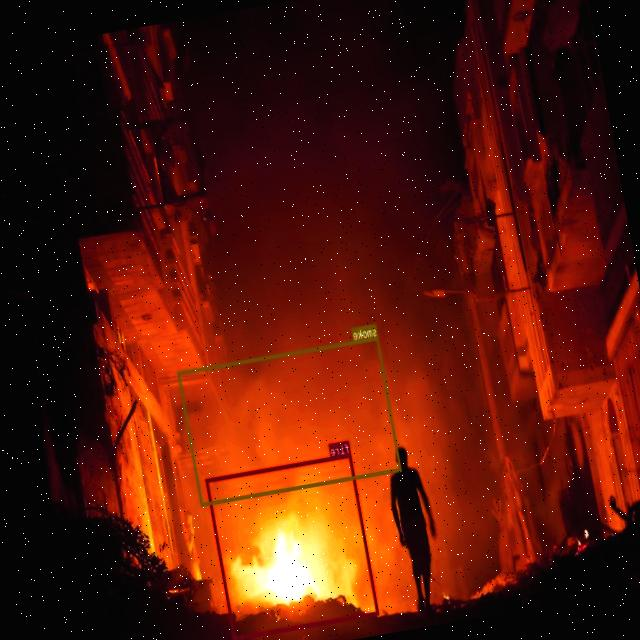fire: (206, 452, 380, 639)
smoke: (177, 336, 402, 506)
